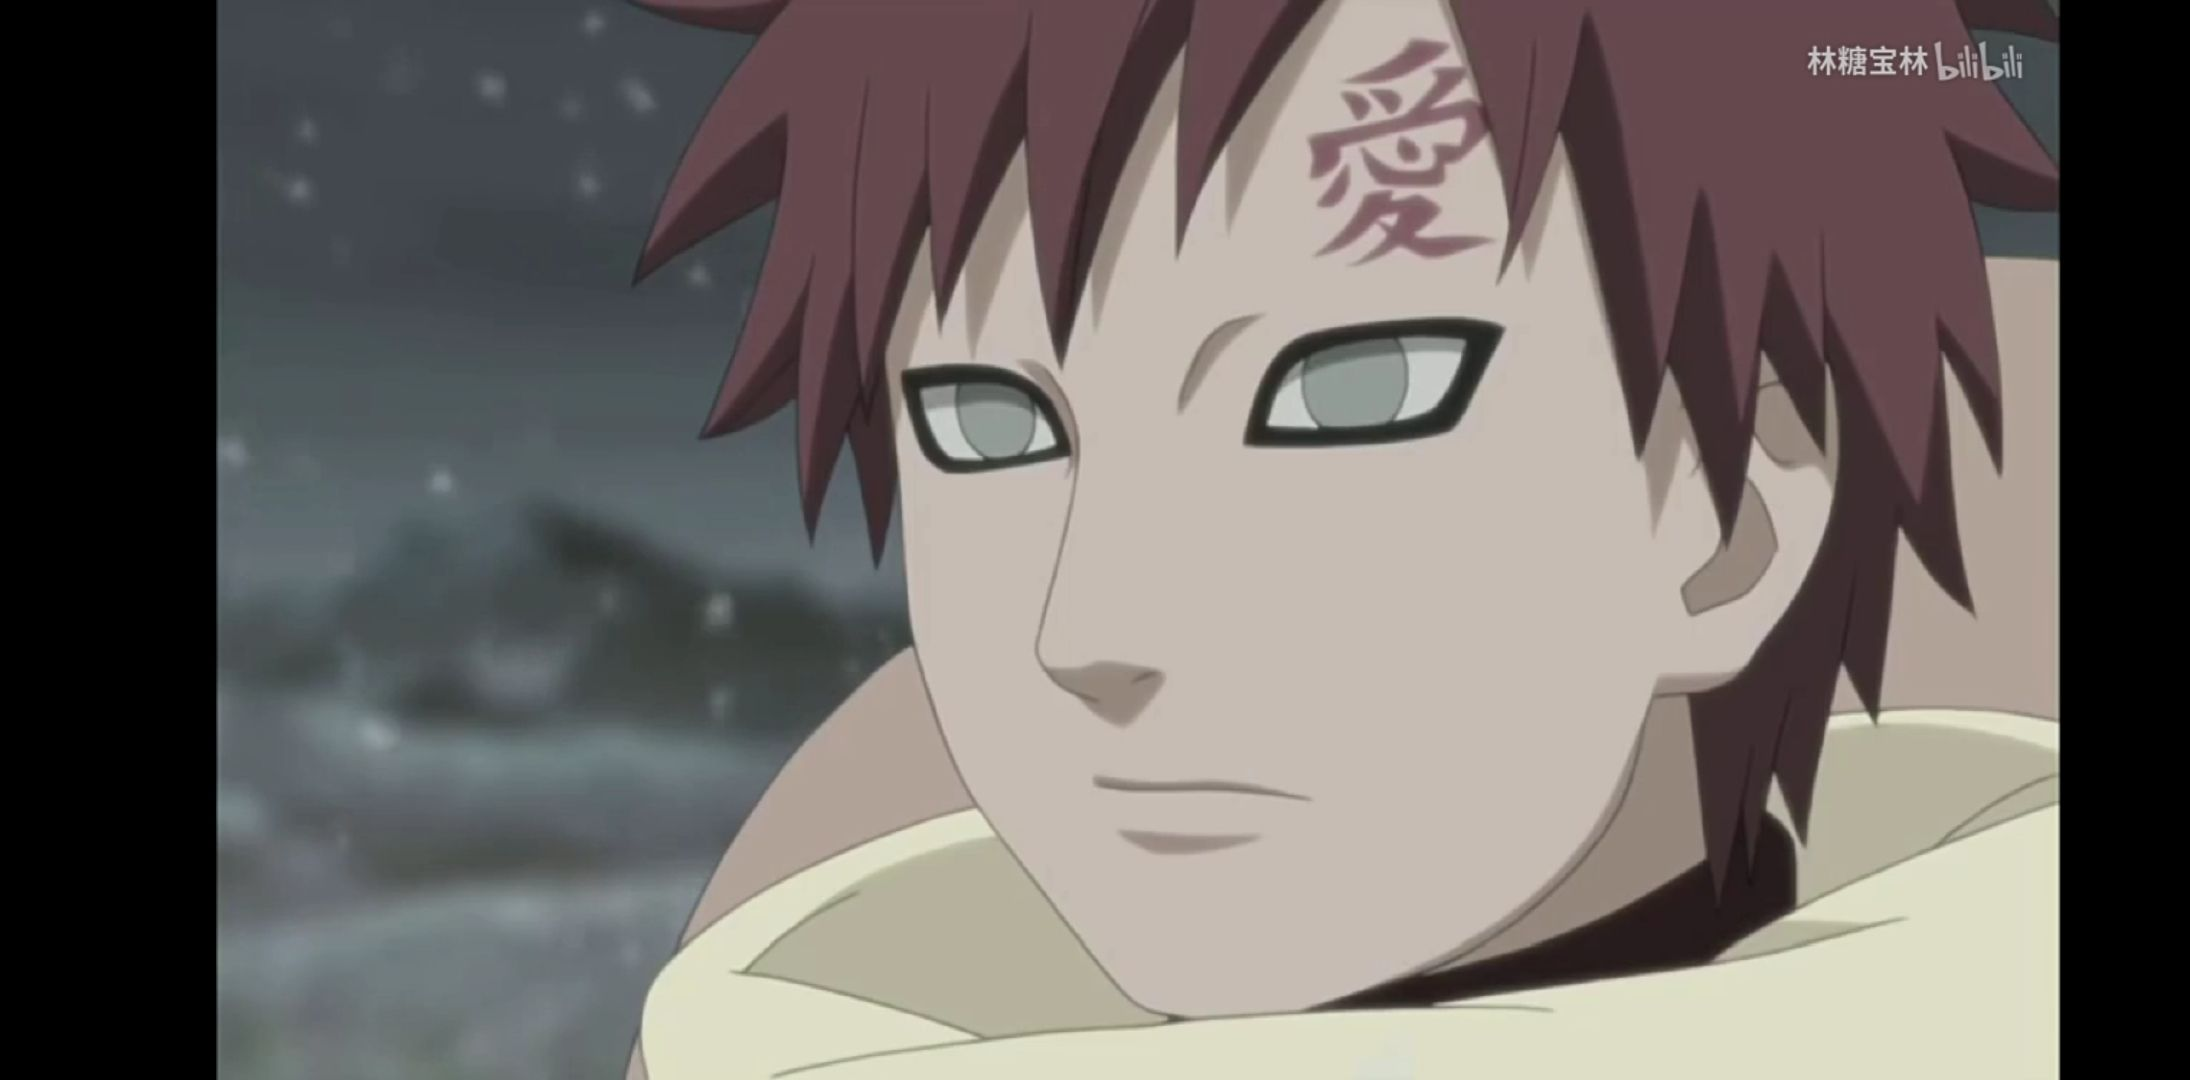gaara: (849, 14, 1853, 1020)
